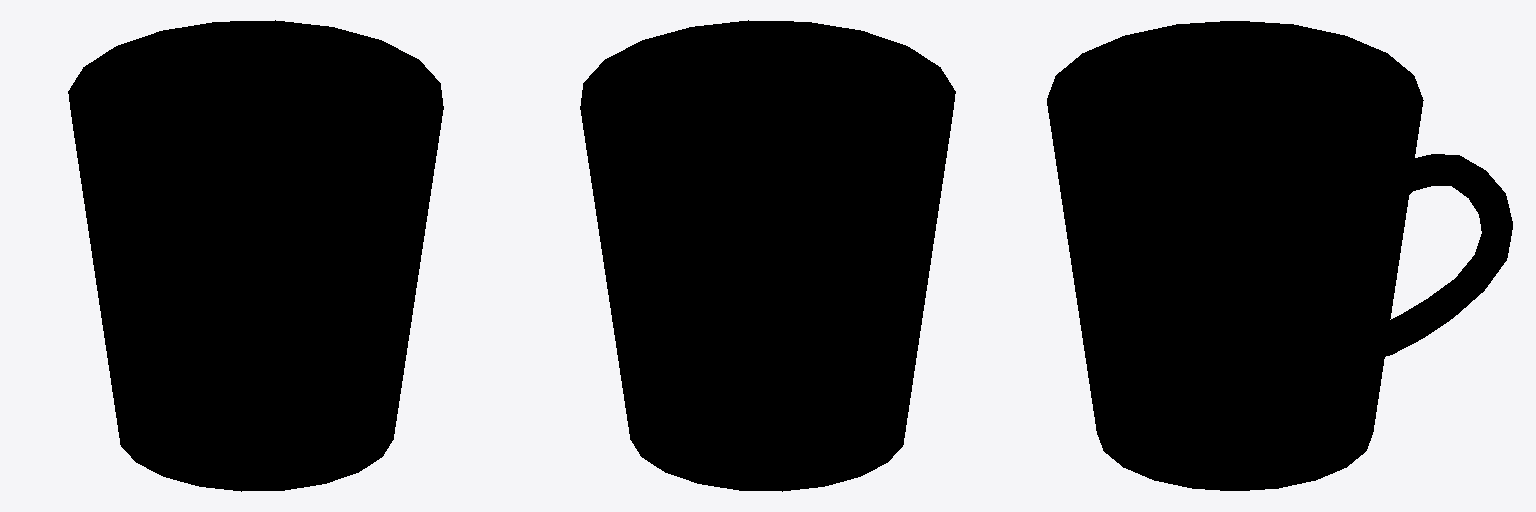
URDF robot description (mug):
<?xml version="1.0" ?>
<robot name="mug">
  <link name="baseLink">
    <contact>
      <lateral_friction value="1.0"/>
      <rolling_friction value="0.0"/>
      <contact_cfm value="0.0"/>
      <contact_erp value="1.0"/>
    </contact>
    <inertial>
      <origin rpy="0 0 0" xyz="0.0225 0.000 0.0047"/>
       <mass value="0.150"/>
       <inertia ixx="0.00012333" ixy="-0.0" ixz="-0.0" iyy="0.00005145" iyz="0.00000007" izz="0.00012910"/>
    </inertial>
    <visual>
      <origin rpy="0 0 0" xyz="0.0225 0.000 0.0047"/>
      <geometry>
        <mesh filename="../obj/mug.obj" scale="0.001 0.001 0.001"/>
      </geometry>
       <material name="black">
        <color rgba="0 0 0 1"/>
      </material>
    </visual>
    <collision concave="yes">
      <origin rpy="0 0 0" xyz="0.0225 0.000 0.0047"/>
      <geometry>
	 	<mesh filename="../obj/mug.obj" scale="0.001 0.001 0.001"/>
      </geometry>
    </collision>
  </link>
</robot>

--- What the picture shows (computed from the rendered views, not written in the file) ---
Views: 3 orthographic renders of the robot side by side, from view 1: azimuth 30°, elevation 25°; view 2: azimuth 150°, elevation 25°; view 3: azimuth 270°, elevation 25°.
Model mug with 1 links and 0 joints (none), rooted at baseLink, posed every joint at zero.
Visible links, largest first — view 1: baseLink; view 2: baseLink; view 3: baseLink.
Link boxes in pixels (bbox=[...]): baseLink: bbox=[68, 20, 443, 491]; baseLink: bbox=[580, 20, 955, 491]; baseLink: bbox=[1047, 21, 1512, 490].
Bounding box of the posed robot: 0.0739 × 0.0915 × 0.072 m (x, y, z).
Meshes: 1 distinct files referenced, 1 mesh visuals loaded (1 OBJ).
